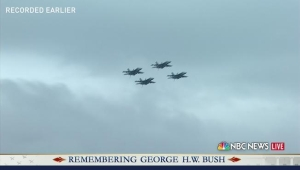flight: (167, 71, 188, 81), (150, 60, 172, 69), (122, 67, 144, 76), (135, 77, 156, 86)
